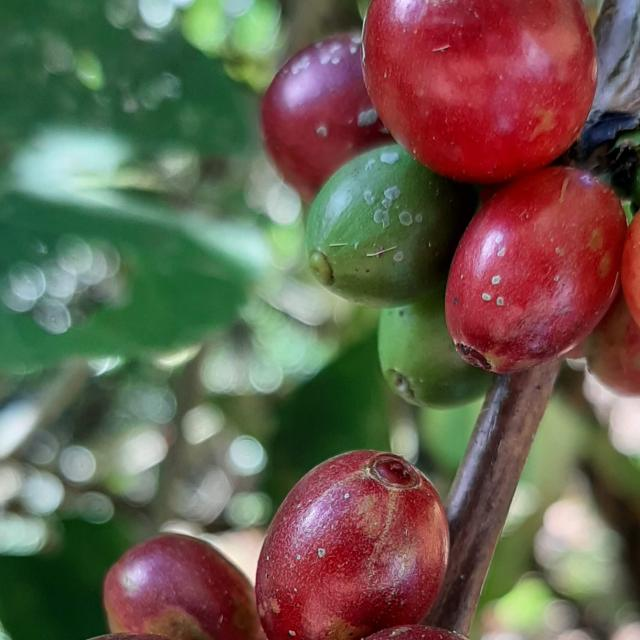green: (306, 144, 476, 308), (378, 290, 492, 409)
red: (363, 0, 598, 184), (446, 166, 628, 374), (255, 451, 449, 640), (261, 33, 392, 201), (92, 535, 265, 640), (622, 211, 640, 326)
